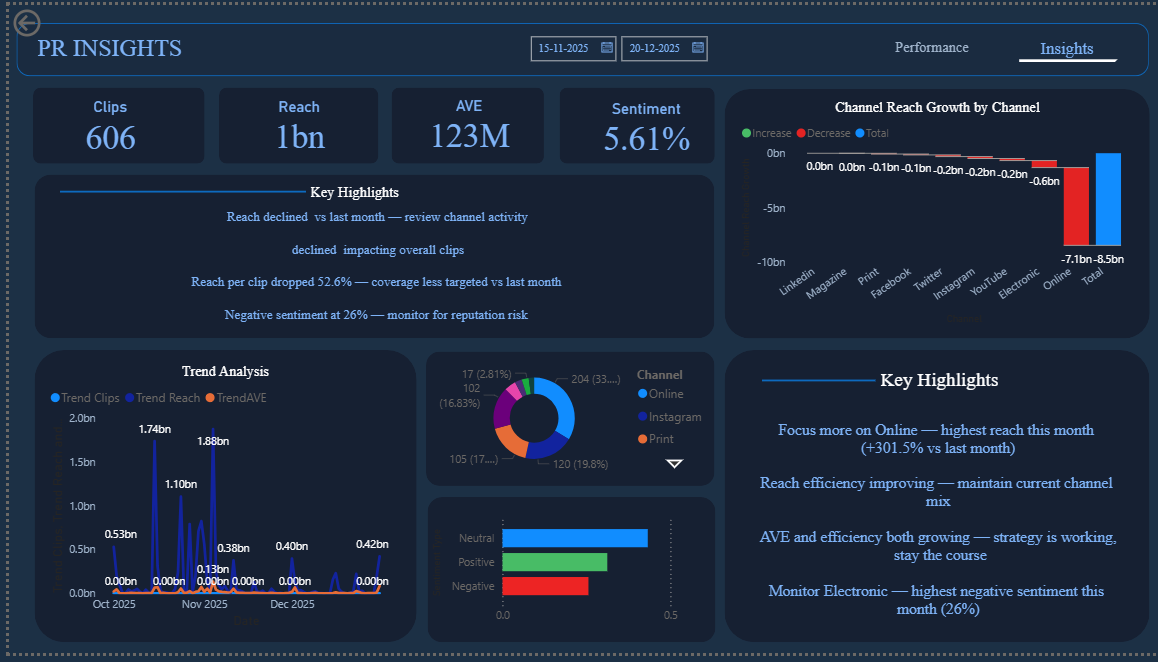

Layout of this report page (visuals, bound fields, positions):
{"tool":"powerbi","page":{"name":"Insights","canvas":[1280,720],"ordinal":1},"visuals":[{"type":"shape","box":[9,19.2,1258.3,59.1],"z":0,"group":"g1"},{"type":"shape","box":[795,93.9,472.4,277.1],"z":0,"group":"g8"},{"type":"shape","box":[27.7,383.1,424.6,324.6],"z":0,"group":"g9"},{"type":"shape","box":[795.4,383.1,472.3,324.6],"z":0},{"type":"group","id":"g1","title":"Group 1","box":[9,19.2,1258.3,59.1],"z":1000},{"type":"textbox","box":[27.2,25.3,298.3,48.5],"z":1000,"group":"g1"},{"type":"shape","box":[425.5,92.4,169.6,84.8],"z":1000,"group":"g3"},{"type":"shape","box":[28.8,188.9,755.6,182],"z":1000,"group":"g7"},{"type":"actionButton","box":[0,0,100,40],"z":2000},{"type":"pageNavigator","box":[964.6,22.3,290.7,50],"z":2000,"group":"g1"},{"type":"shape","box":[233.2,92.4,177.2,84.8],"z":2000,"group":"g5"},{"type":"slicer","title":"N,N","fields":{"Values":["Calendar.Date"]},"box":[566.7,25,235,56.7],"z":3000},{"type":"shape","box":[27.3,92.4,190.8,84.8],"z":4000,"group":"g6"},{"type":"group","id":"g2","title":"Group 3","box":[611.7,92.4,172.6,84.8],"z":4000},{"type":"waterfallChart","fields":{"Category":["Print.Channel"],"Y":["Print.Channel Reach Growth"]},"box":[808.6,106,446.7,254.4],"z":4000,"group":"g8"},{"type":"lineChart","title":"Trend Analysis","fields":{"Y":["Print.Trend Clips","Print.Trend Reach","Print.TrendAVE"],"Category":["Print.Date"]},"box":[39.9,397.3,401.5,298],"z":4000,"group":"g9"},{"type":"group","id":"g3","title":"Group 4","box":[425.5,92.4,169.6,84.8],"z":5000},{"type":"card","title":"Clips","fields":{"Values":["Print.Total Clips"]},"box":[52.7,104.1,121.7,63.6],"z":5000,"group":"g6"},{"type":"textbox","box":[330.1,193.5,218.2,28.6],"z":5000,"group":"g7"},{"type":"shape","box":[56.5,183.2,273.6,48.1],"z":6000,"group":"g7"},{"type":"textbox","box":[962.7,398.2,218.5,36.9],"z":6000},{"type":"card","title":"Reach","fields":{"Values":["Print.Total Reach"]},"box":[253.4,104.9,138.4,62.1],"z":7000,"group":"g5"},{"type":"group","id":"g4","title":"Group 2","box":[46.7,211.8,724.6,159.1],"z":7000,"group":"g7"},{"type":"shape","box":[836.6,392.8,126.2,47.7],"z":7000},{"type":"group","id":"g5","title":"Group 5","box":[233.2,92.4,177.2,84.8],"z":8000},{"type":"shape","box":[464.1,384.4,320.6,149.5],"z":8000,"group":"g10"},{"type":"shape","box":[464.6,546.2,320,161.5],"z":8000,"group":"g11"},{"type":"group","id":"g6","title":"Group 6","box":[27.3,92.4,190.8,84.8],"z":9000},{"type":"shape","box":[611.7,92.4,172.6,84.8],"z":9000,"group":"g2"},{"type":"donutChart","fields":{"Category":["Print.Channel"],"Y":["Print.Total Clips"]},"box":[464.1,394.7,320.6,127.6],"z":9000,"group":"g10"},{"type":"barChart","fields":{"Y":["Calendar.Sentiment Value"],"Category":["Sentiment Table.Sentiment Type"]},"box":[464.6,557.3,320,137.9],"z":9000,"group":"g11"},{"type":"group","id":"g7","title":"Group 7","box":[28.8,183.2,755.6,187.8],"z":10000},{"type":"group","id":"g8","title":"Group 8","box":[795,93.9,472.4,277.1],"z":11000},{"type":"card","title":"AVE","fields":{"Values":["Print.Total AVE"]},"box":[444.9,103,132.4,62.1],"z":12000,"group":"g3"},{"type":"card","title":"Sentiment","fields":{"Values":["Calendar.Highlight Reach"]},"box":[46.7,211.8,724.6,50.4],"z":12000,"group":"g4"},{"type":"group","id":"g9","title":"Group 8","box":[27.7,383.1,424.6,324.6],"z":12000},{"type":"card","title":"Sentiment","fields":{"Values":["Print.Sentiment Score"]},"box":[631.4,106,152.9,62.1],"z":13000,"group":"g2"},{"type":"card","title":"Sentiment","fields":{"Values":["Calendar.Highlight Clips"]},"box":[46.7,248.4,722.5,50.4],"z":13000,"group":"g4"},{"type":"group","id":"g10","title":"Group 9","box":[464.1,384.4,320,149.2],"z":13000},{"type":"card","title":"Sentiment","fields":{"Values":["Calendar.Highlight Efficiency"]},"box":[46.7,283.9,722.5,50.4],"z":14000,"group":"g4"},{"type":"group","id":"g11","title":"Group 9","box":[464.6,546.2,320,161.5],"z":14000},{"type":"card","title":"Sentiment","fields":{"Values":["Calendar.Highlight Sentiment"]},"box":[46.7,320.6,722.5,50.4],"z":15000,"group":"g4"},{"type":"card","title":"Sentiment","fields":{"Values":["Print.Rec1"]},"box":[828.3,451.2,407.3,60.6],"z":15000},{"type":"card","title":"Sentiment","fields":{"Values":["Print.Rec2"]},"box":[827.7,510.6,407.7,61.5],"z":16000},{"type":"card","title":"Sentiment","fields":{"Values":["Print.Rec3"]},"box":[827.7,570.5,407.7,61.5],"z":17000},{"type":"card","title":"Sentiment","fields":{"Values":["Print.Rec4"]},"box":[827.7,630.3,407.7,61.5],"z":18000}]}

Visuals, with their boxes in screenshot pixels (x1, y1, x2, y2), scaled from the page's 1280x720 canvas onto the 1158x662 screenshot:
shape: bbox(8, 18, 1147, 72)
shape: bbox(719, 86, 1147, 341)
shape: bbox(25, 352, 409, 651)
shape: bbox(720, 352, 1147, 651)
"Group 1" group: bbox(8, 18, 1147, 72)
textbox: bbox(25, 23, 294, 68)
shape: bbox(385, 85, 538, 163)
shape: bbox(26, 174, 710, 341)
actionButton: bbox(0, 0, 90, 37)
pageNavigator: bbox(873, 21, 1136, 66)
shape: bbox(211, 85, 371, 163)
"N,N" slicer: bbox(513, 23, 725, 75)
shape: bbox(25, 85, 197, 163)
"Group 3" group: bbox(553, 85, 710, 163)
waterfallChart - Print.Channel x Print.Channel Reach Growth: bbox(732, 97, 1136, 331)
"Trend Analysis" lineChart: bbox(36, 365, 399, 639)
"Group 4" group: bbox(385, 85, 538, 163)
"Clips" card: bbox(48, 96, 158, 154)
textbox: bbox(299, 178, 496, 204)
shape: bbox(51, 168, 299, 213)
textbox: bbox(871, 366, 1069, 400)
"Reach" card: bbox(229, 96, 354, 154)
"Group 2" group: bbox(42, 195, 698, 341)
shape: bbox(757, 361, 871, 405)
"Group 5" group: bbox(211, 85, 371, 163)
shape: bbox(420, 353, 710, 491)
shape: bbox(420, 502, 710, 651)
"Group 6" group: bbox(25, 85, 197, 163)
shape: bbox(553, 85, 710, 163)
donutChart - Print.Channel x Print.Total Clips: bbox(420, 363, 710, 480)
barChart - Calendar.Sentiment Value x Sentiment Table.Sentiment Type: bbox(420, 512, 710, 639)
"Group 7" group: bbox(26, 168, 710, 341)
"Group 8" group: bbox(719, 86, 1147, 341)
"AVE" card: bbox(402, 95, 522, 152)
"Sentiment" card: bbox(42, 195, 698, 241)
"Group 8" group: bbox(25, 352, 409, 651)
"Sentiment" card: bbox(571, 97, 710, 155)
"Sentiment" card: bbox(42, 228, 696, 275)
"Group 9" group: bbox(420, 353, 709, 491)
"Sentiment" card: bbox(42, 261, 696, 307)
"Group 9" group: bbox(420, 502, 710, 651)
"Sentiment" card: bbox(42, 295, 696, 341)
"Sentiment" card: bbox(749, 415, 1118, 471)
"Sentiment" card: bbox(749, 469, 1118, 526)
"Sentiment" card: bbox(749, 525, 1118, 581)
"Sentiment" card: bbox(749, 580, 1118, 636)
